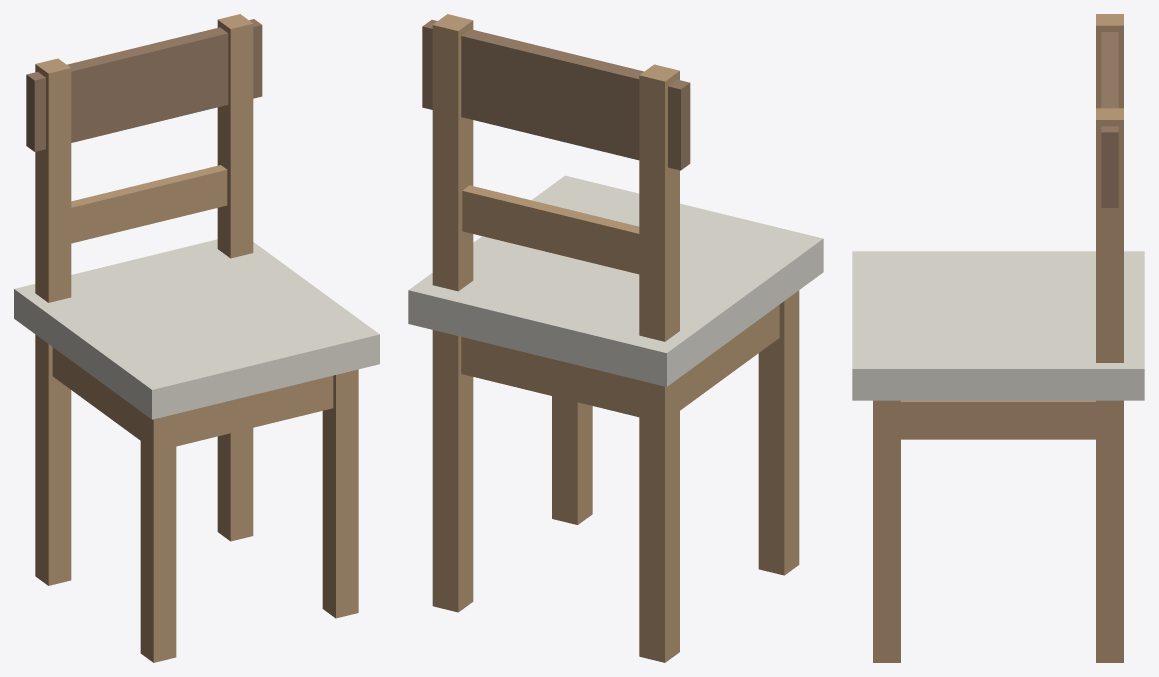
Rendered from Study_Stool.glb.
3 renders of one model, left to right at view 1: azimuth 30°, elevation 25°; view 2: azimuth 150°, elevation 25°; view 3: azimuth 270°, elevation 25°, orthographic. The views are drawn at different scales.
Visible parts, largest first — view 1: Study_Stool; view 2: Study_Stool; view 3: Study_Stool.
Boxes of the visible parts, left/top/right/bottom form: Study_Stool: left=14, top=14, right=379, bottom=662; Study_Stool: left=408, top=14, right=823, bottom=662; Study_Stool: left=852, top=14, right=1144, bottom=662.
Size of the model in its own units: 0.4 by 0.86 by 0.42.
